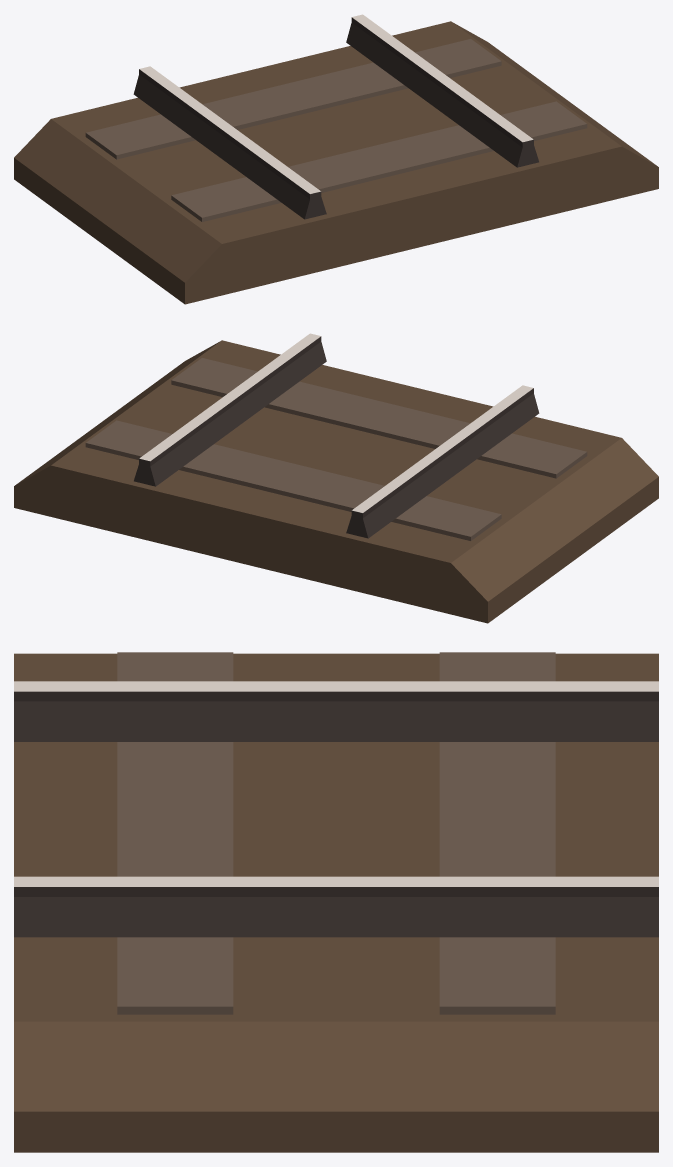
Rendered from track.fbx.
3 views of the same model, one above another, from view 1: azimuth 30°, elevation 25°; view 2: azimuth 150°, elevation 25°; view 3: azimuth 270°, elevation 25° (orthographic). The views are drawn at different scales.
Parts seen in each view (by area): view 1: p431_Track; view 2: p431_Track; view 3: p431_Track.
Part boxes in pixels (left/top/right/bottom): p431_Track: left=14, top=14, right=658, bottom=304; p431_Track: left=14, top=333, right=658, bottom=623; p431_Track: left=14, top=652, right=658, bottom=1152.
Size of the model in its own units: 3.2 by 0.515 by 2.
